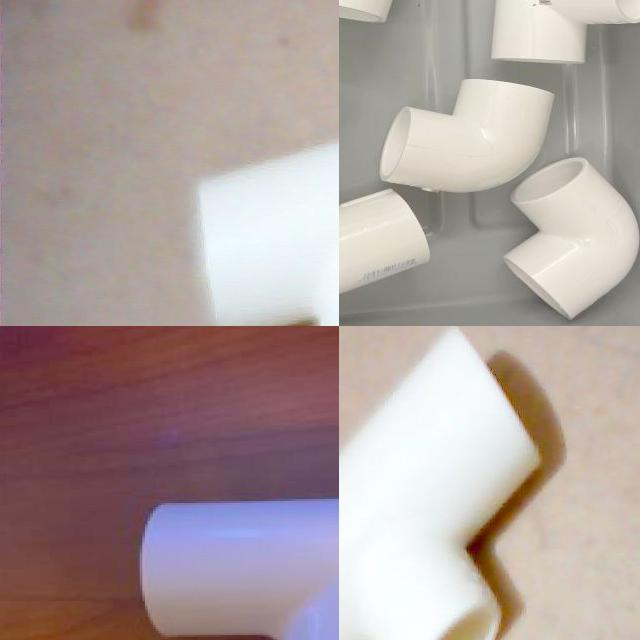L Joint: (501, 157, 640, 323), (378, 79, 554, 196)
T Joint: (339, 326, 549, 640), (194, 140, 339, 326)
